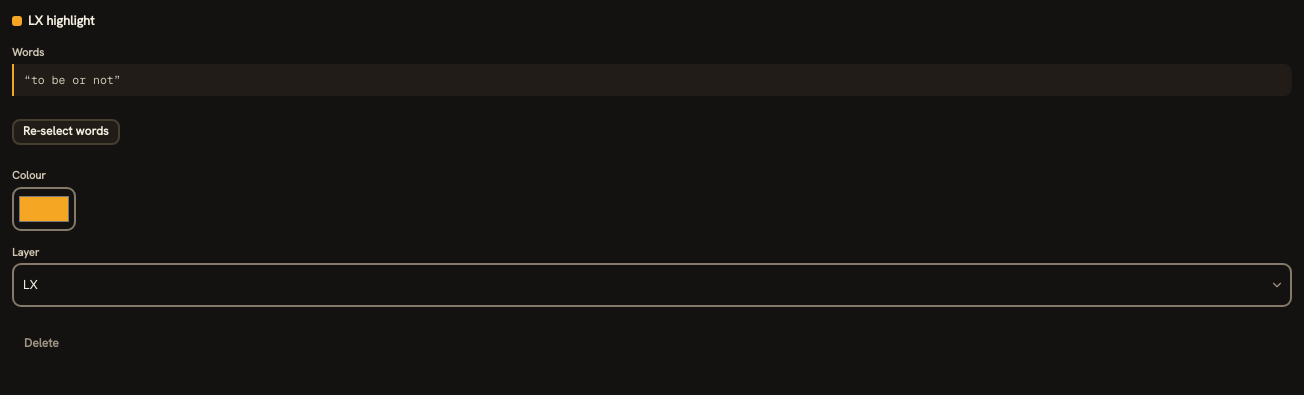
Test: a highlight shows its quote and offers "Re-select words"
Click the button "Re-select words" at (66, 132), box [12,110,120,154]
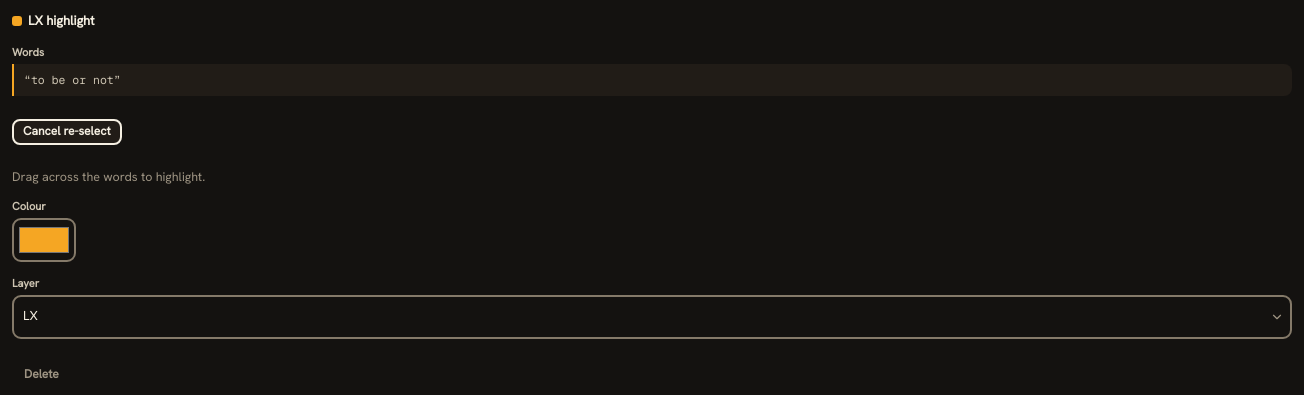
Check: the button "Cancel re-select" is shown
Click the button "Cancel re-select" at (67, 132), box [12,110,122,154]
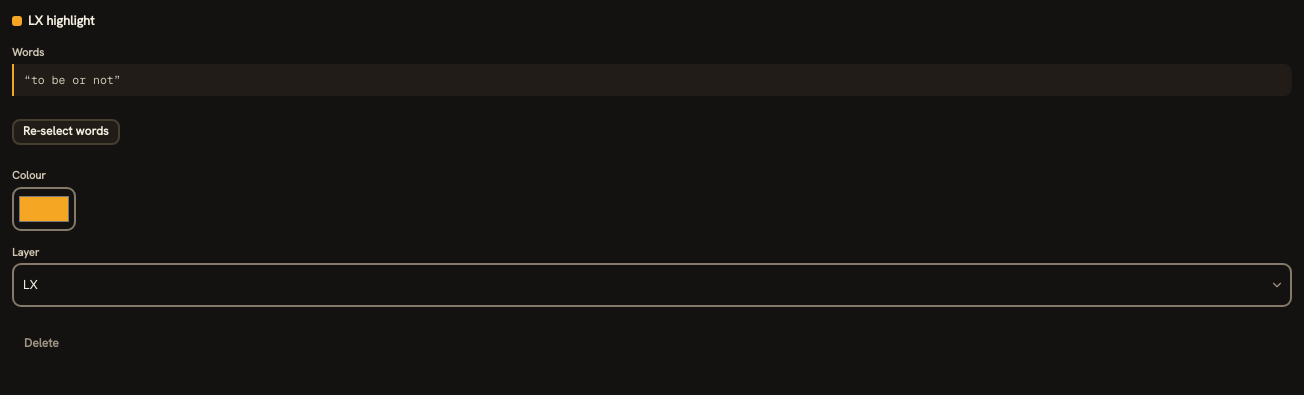
Check: the button "Re-select words" is shown, box [12,110,120,154]
